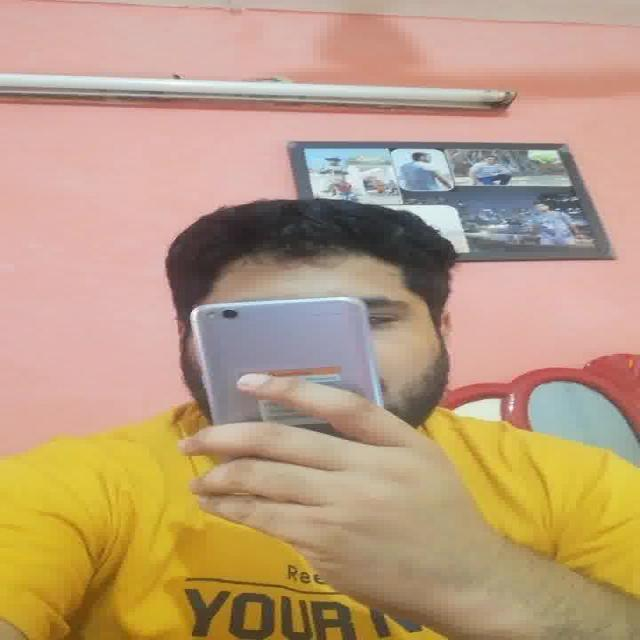Phone: (192, 296, 384, 431)
